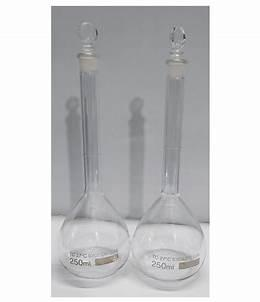Volumetric flask: (58, 11, 207, 290)
